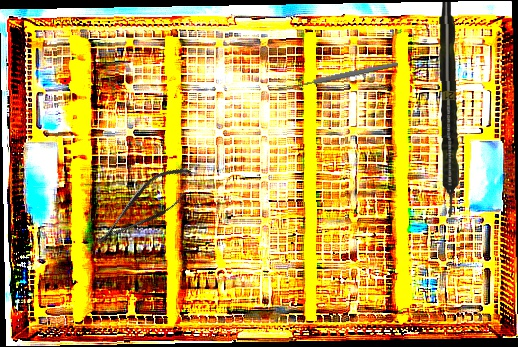Handpiece: (437, 1, 460, 218)
Micro Scissor: (86, 156, 203, 258)
Surgical Spoon: (277, 60, 399, 93)
